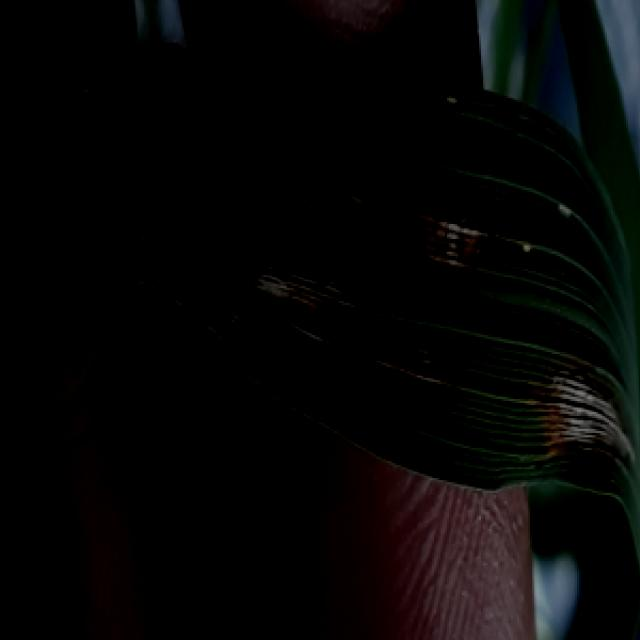Brown_Spot: (392, 203, 513, 287)
